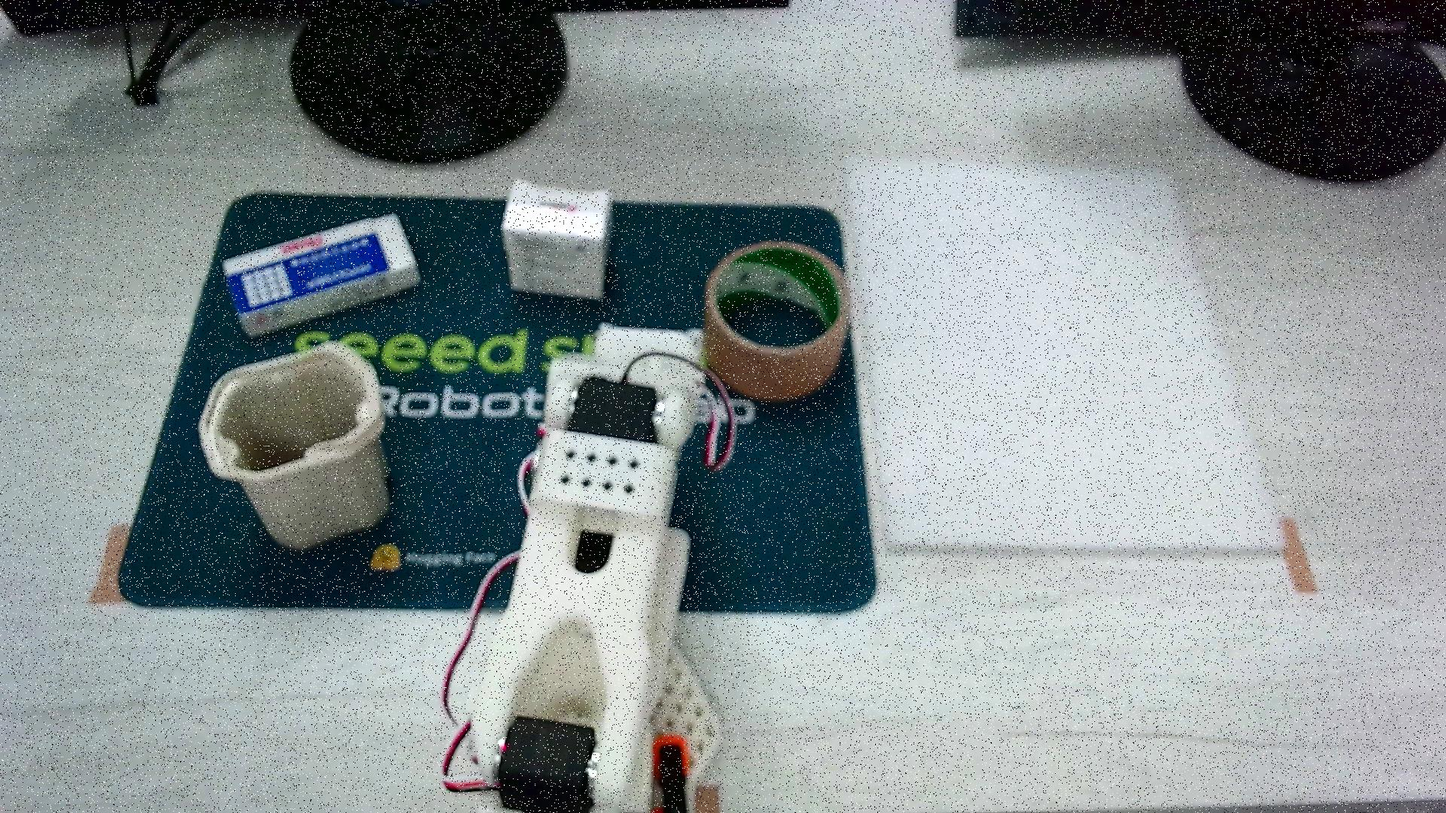eraser: (501, 179, 611, 300)
